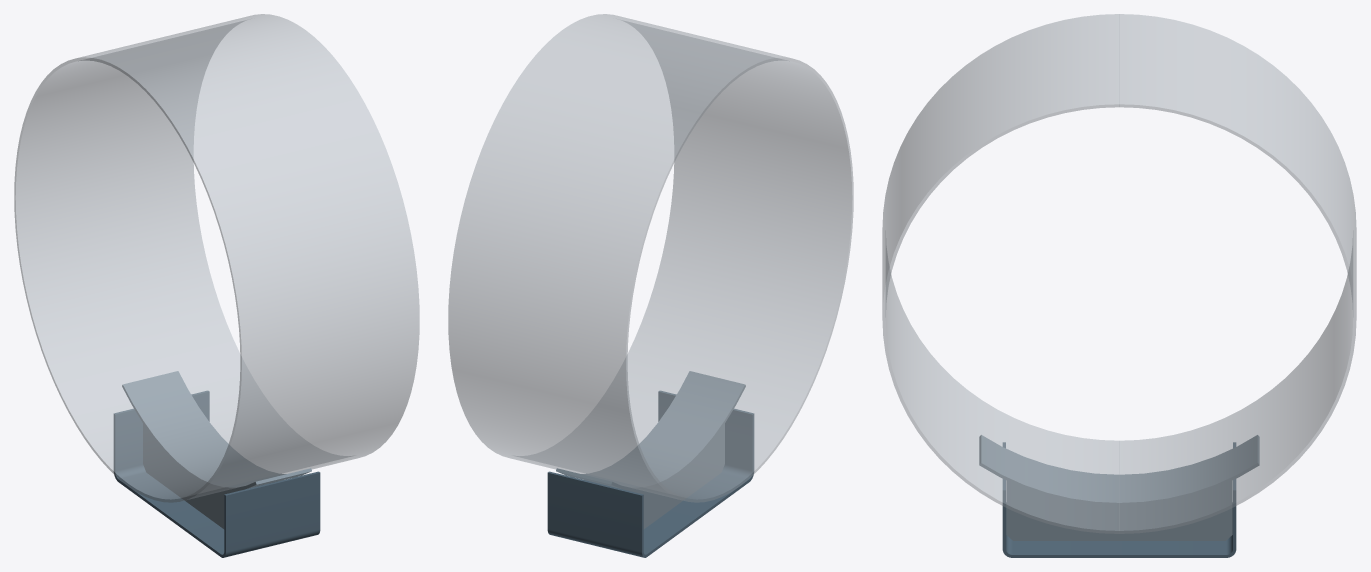
File: TS-624.000-070-opora-dn1420-H150-L340.glb
3 views of the same model, side by side, from view 1: azimuth 30°, elevation 25°; view 2: azimuth 150°, elevation 25°; view 3: azimuth 270°, elevation 25° (orthographic). The views are drawn at different scales.
Parts seen in each view (by area): view 1: truba, skoba, podushka_0, rebro3_0; view 2: truba, skoba, podushka_0, rebro3_0; view 3: truba, rebro3_1, podushka_0, skoba.
Part boxes in pixels (x1,y1,x2,y2): truba: [14, 14, 419, 502]; skoba: [113, 390, 320, 557]; podushka_0: [122, 371, 311, 490]; rebro3_0: [143, 424, 244, 529]; truba: [448, 14, 853, 502]; skoba: [547, 390, 754, 557]; podushka_0: [556, 371, 745, 490]; rebro3_0: [623, 424, 724, 529]; truba: [882, 14, 1356, 533]; rebro3_1: [1006, 480, 1232, 540]; podushka_0: [979, 435, 1259, 505]; skoba: [1002, 442, 1236, 557].
Bounding box in the file's own units: 640 × 1569 × 1420.
